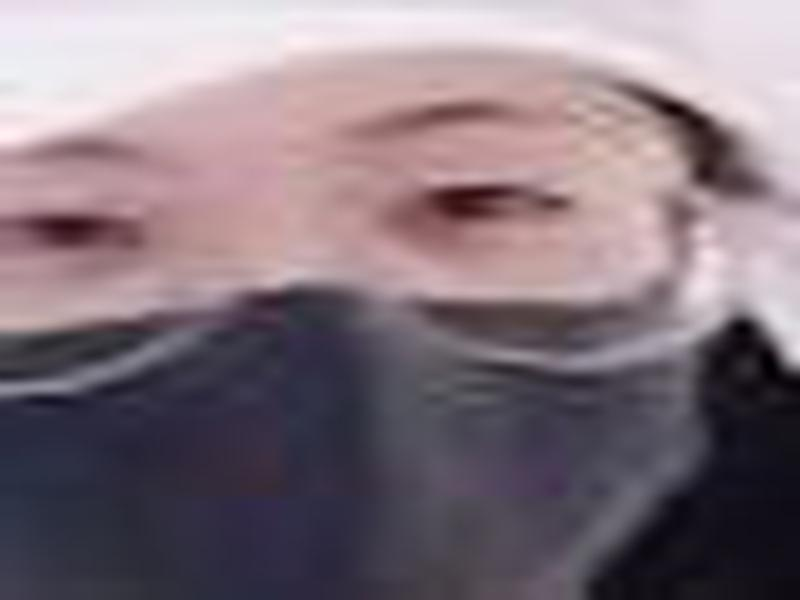with_mask: (1, 56, 712, 600)
